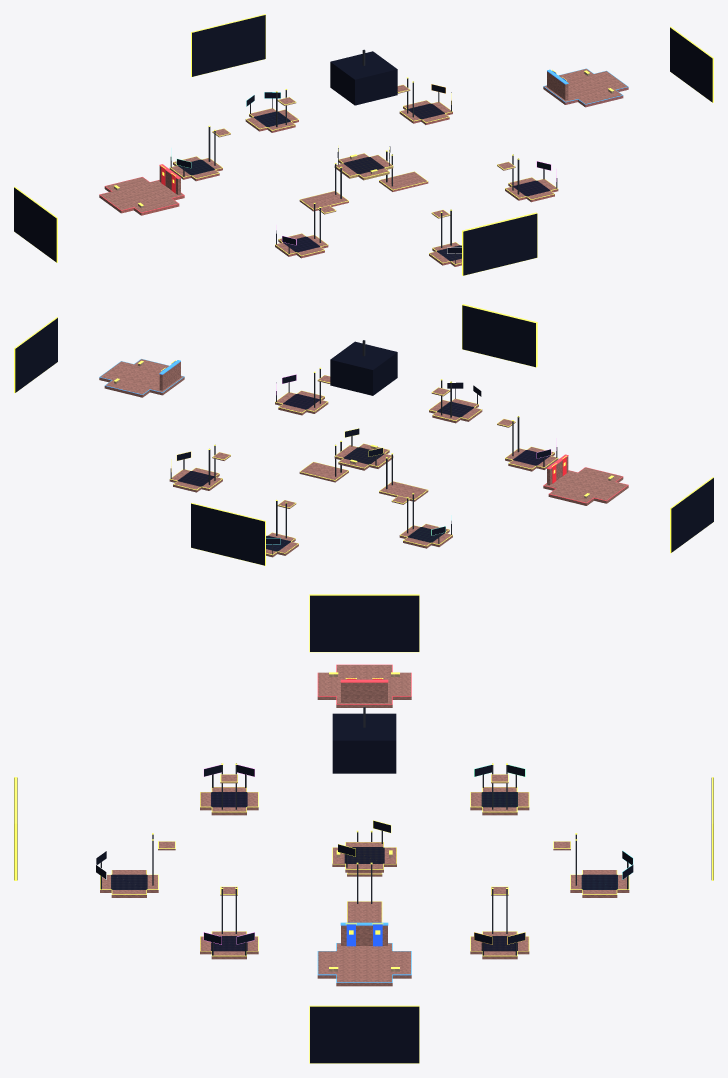
File: skyreach_map_v11.glb
3 renders of one model, top to bottom at view 1: azimuth 30°, elevation 25°; view 2: azimuth 150°, elevation 25°; view 3: azimuth 270°, elevation 25°, orthographic. The views are drawn at different scales.
Visible parts, largest first — view 1: skyreach_map_v11; view 2: skyreach_map_v11; view 3: skyreach_map_v11.
Part boxes in pixels (x1,y1,x2,y2): skyreach_map_v11: (14,14,713,275); skyreach_map_v11: (14,304,713,565); skyreach_map_v11: (14,594,713,1063).
Size of the model in its own units: 332 by 68.62 by 238.
Materials: 28 (14 with a texture image).
